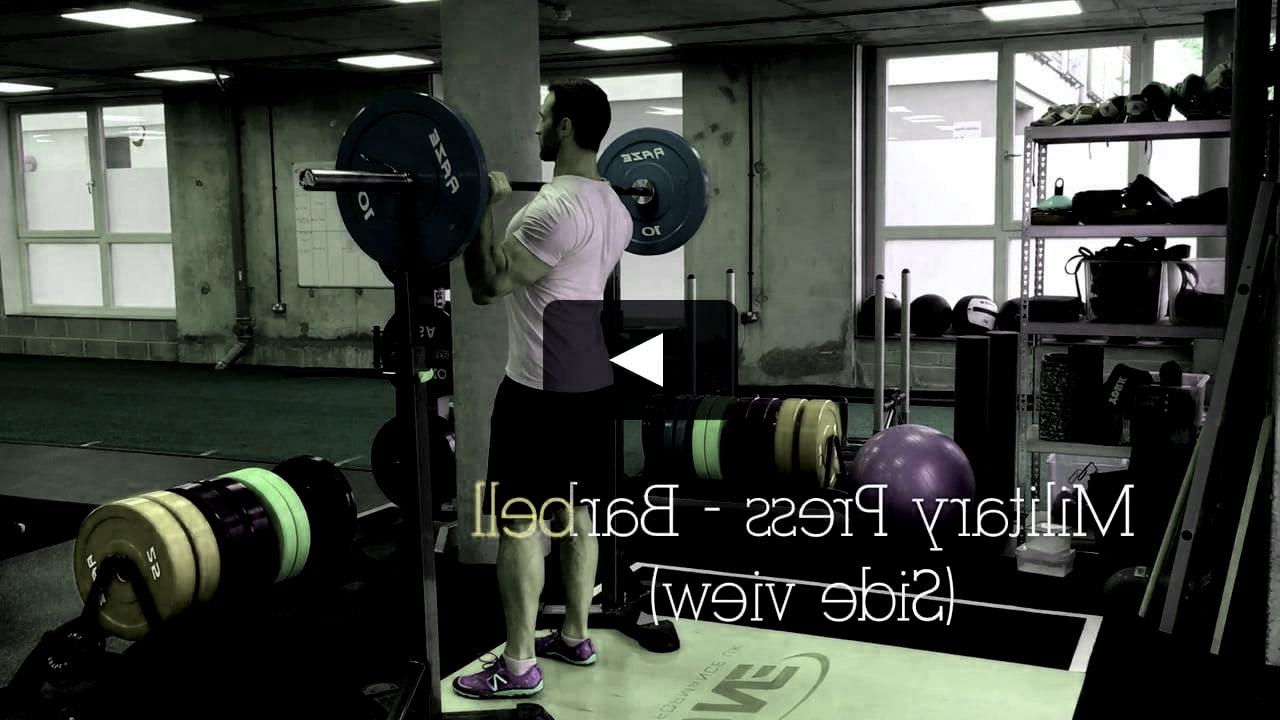Barbell: (290, 157, 324, 198)
